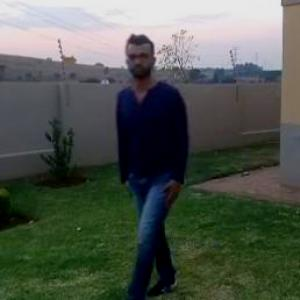follow: (112, 23, 225, 299)
